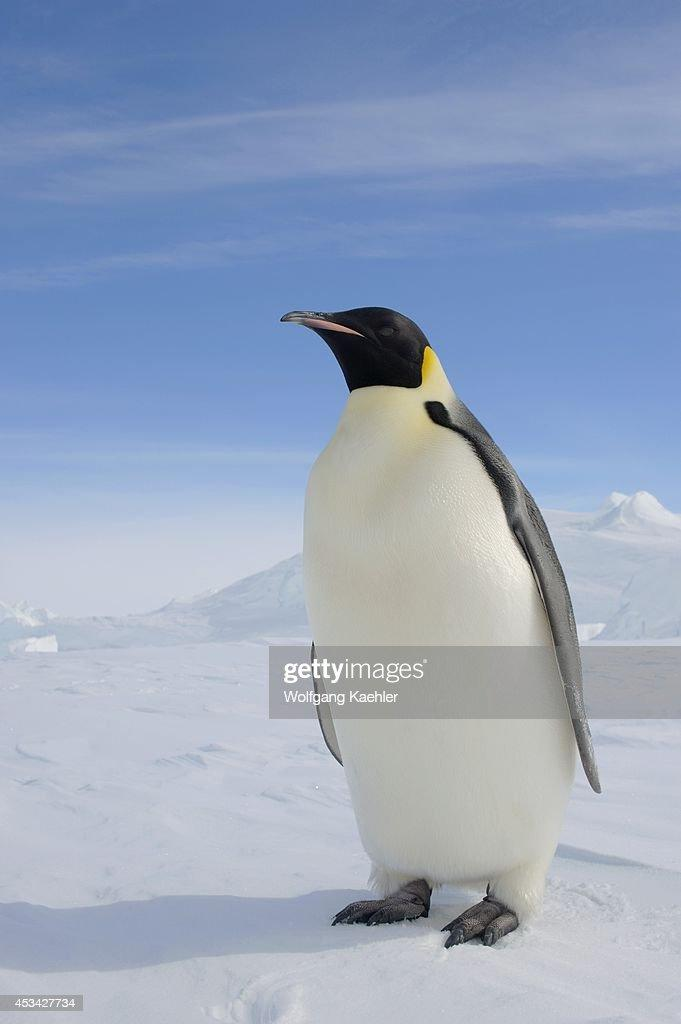emporer: (211, 290, 626, 961)
